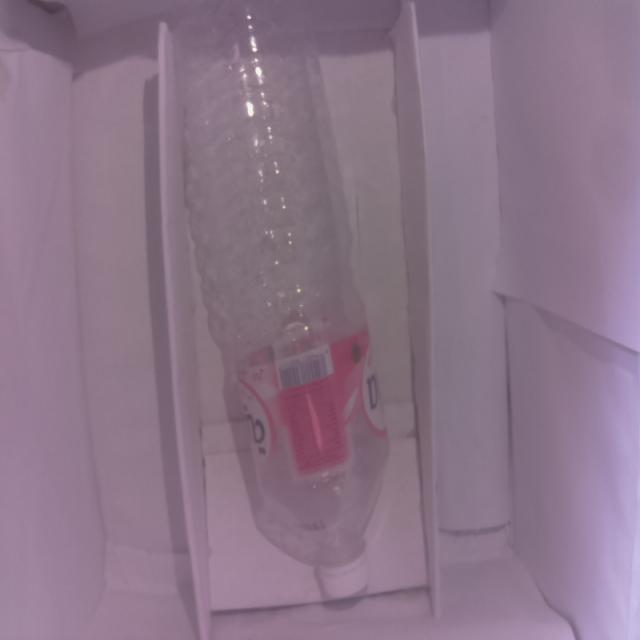bottle: (173, 0, 393, 605)
